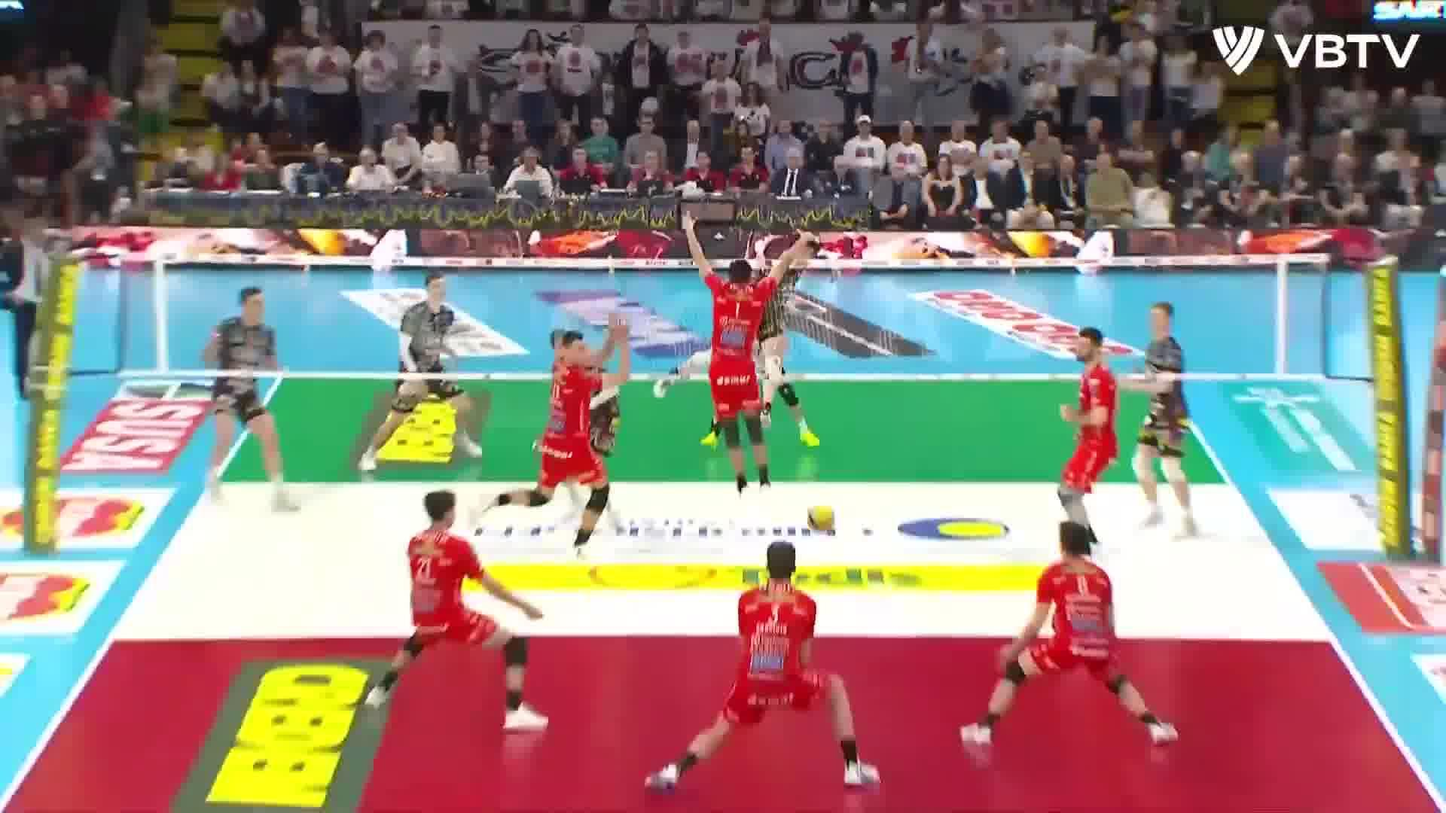balls: (807, 502, 836, 532)
